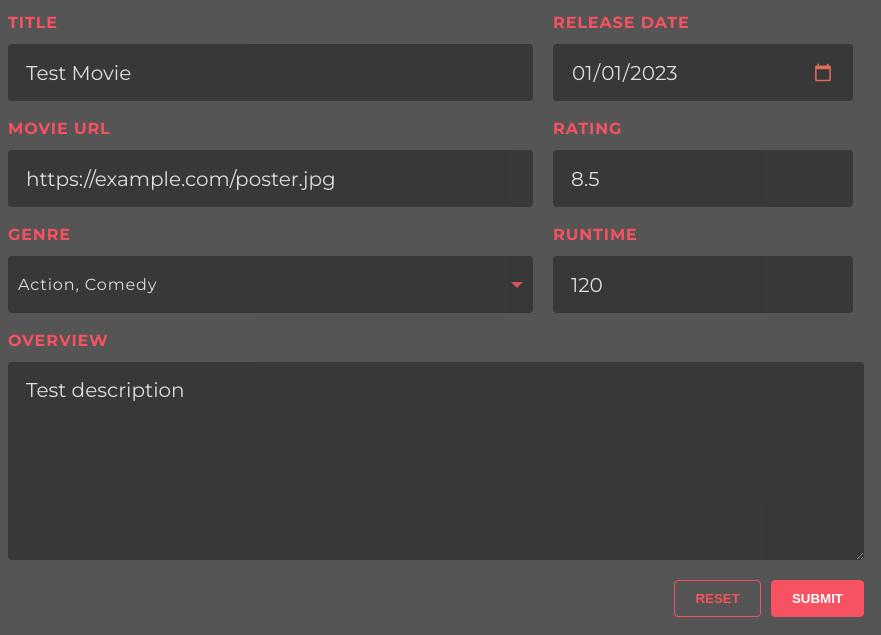
Scenario: MovieForm › resets form correctly
The width and height of the screenshot is (881, 635).
# Change some values
In the field with placeholder "Title" below "TITLE": (270, 72) [8,44,533,101], type "Changed Title"
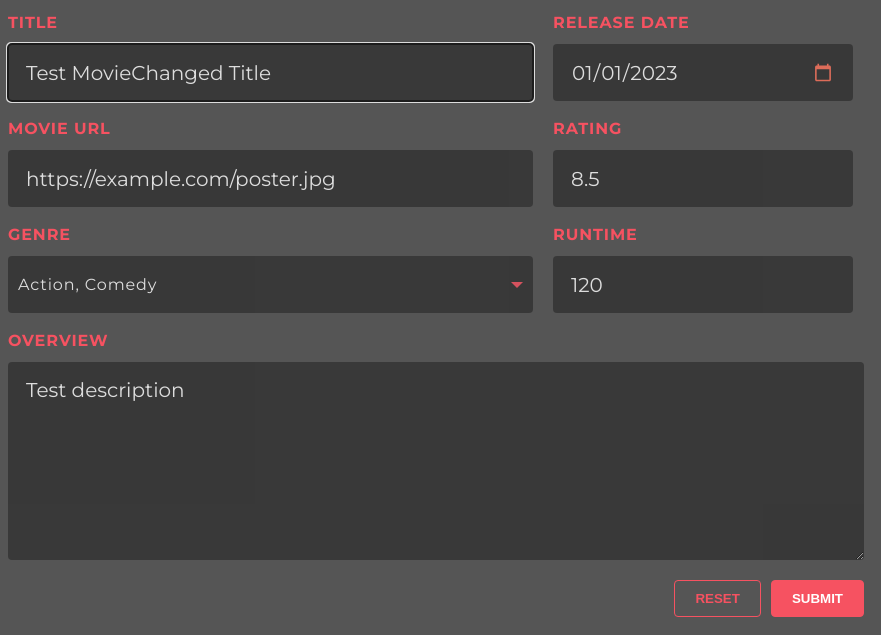
In the number field showing "8.5" below "RATING": (703, 178) [553,150,853,207], type "7.5"
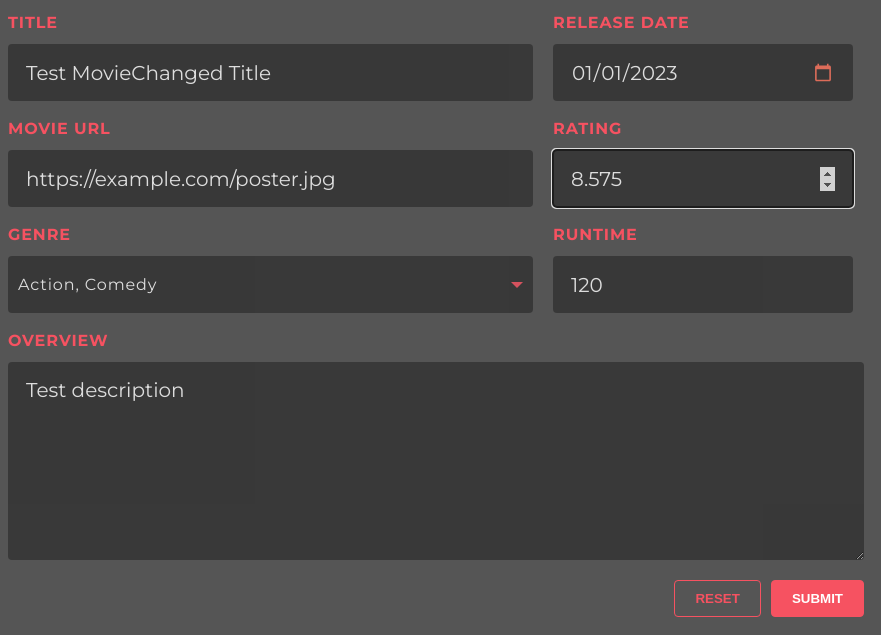
# Reset form
Click the button "RESET": (718, 598) [674,580,761,617]
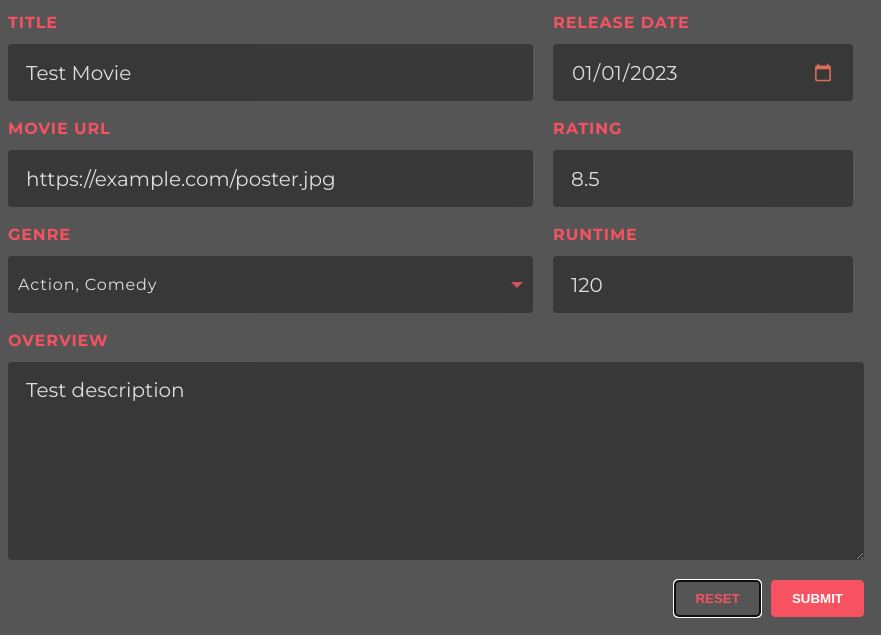
Expected: the number field showing "8.5" below "RATING" is shown, [553,150,853,207]
Expected: the field with placeholder "Title" below "TITLE" holds "Test Movie", [8,44,533,101]
